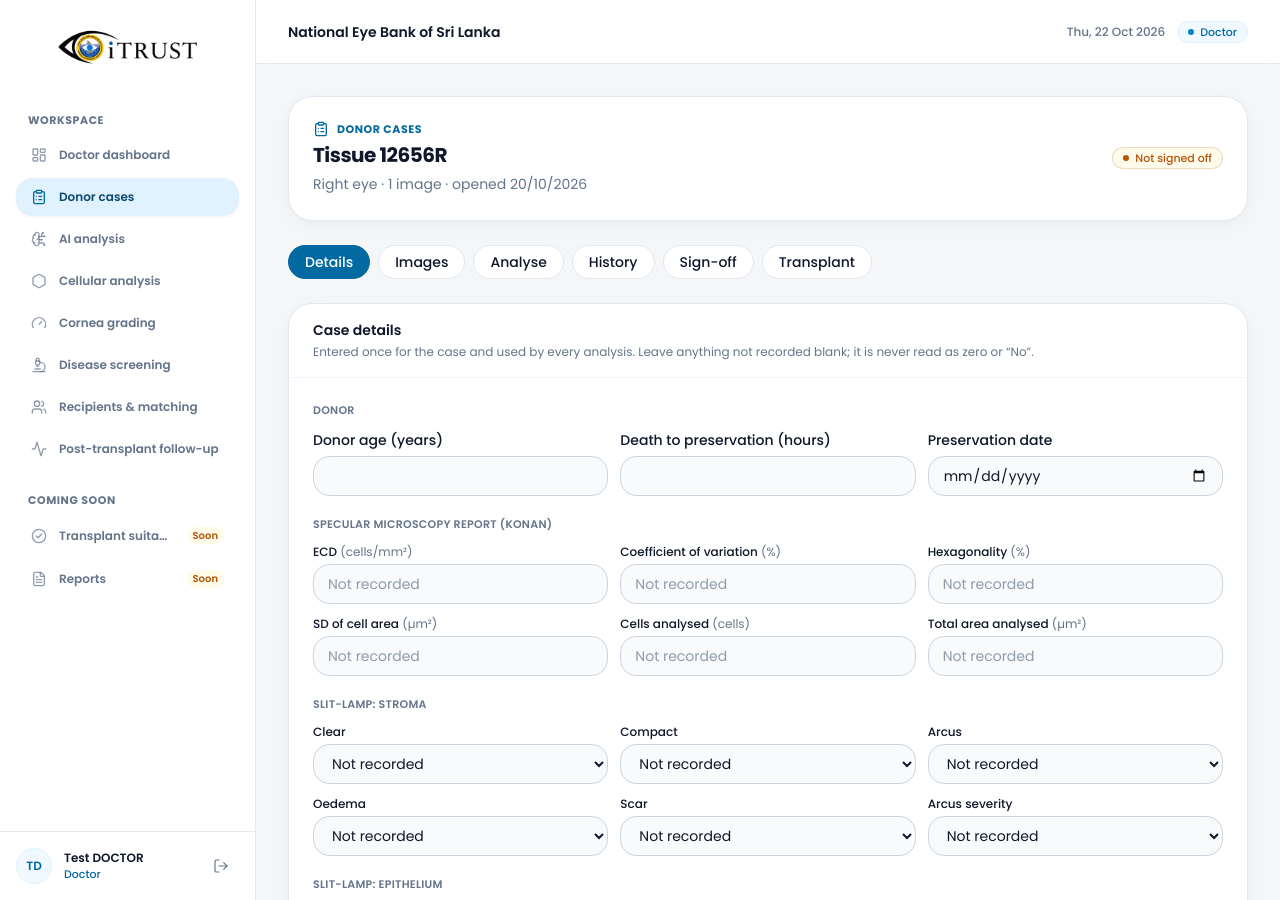
Scenario: Case workspace › saves the details once for every module
Step 1. Type "54" into the field labelled "Donor age (years)" → (461, 476), box top-left (313, 456), bottom-right (608, 496)
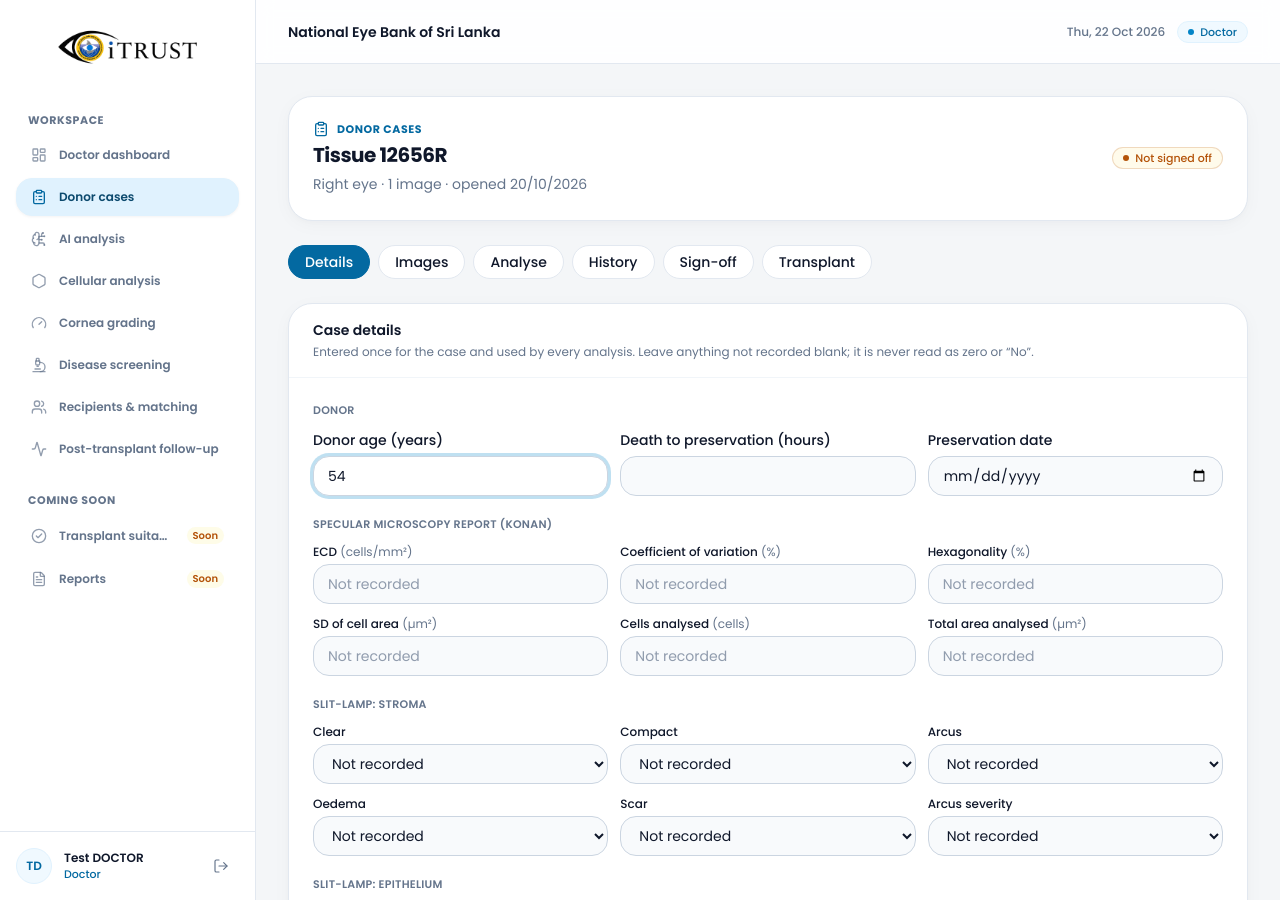
Step 2. Type "2400" into the field labelled "ECD (cells/mm²)" → (461, 584), box top-left (313, 564), bottom-right (608, 604)
(page scrolled)
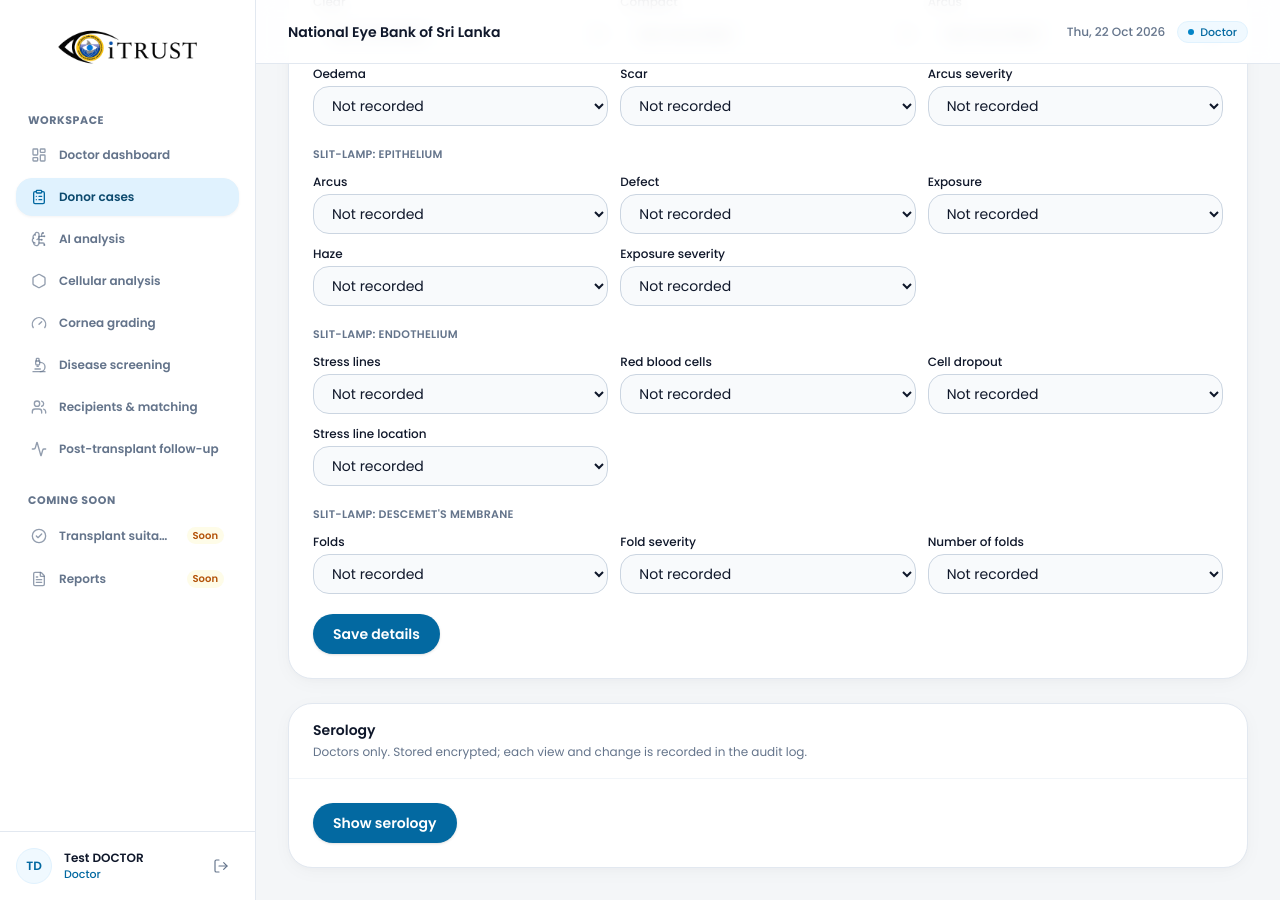
Step 3. Click the button "Save details" → click(376, 634), box top-left (313, 614), bottom-right (440, 654)
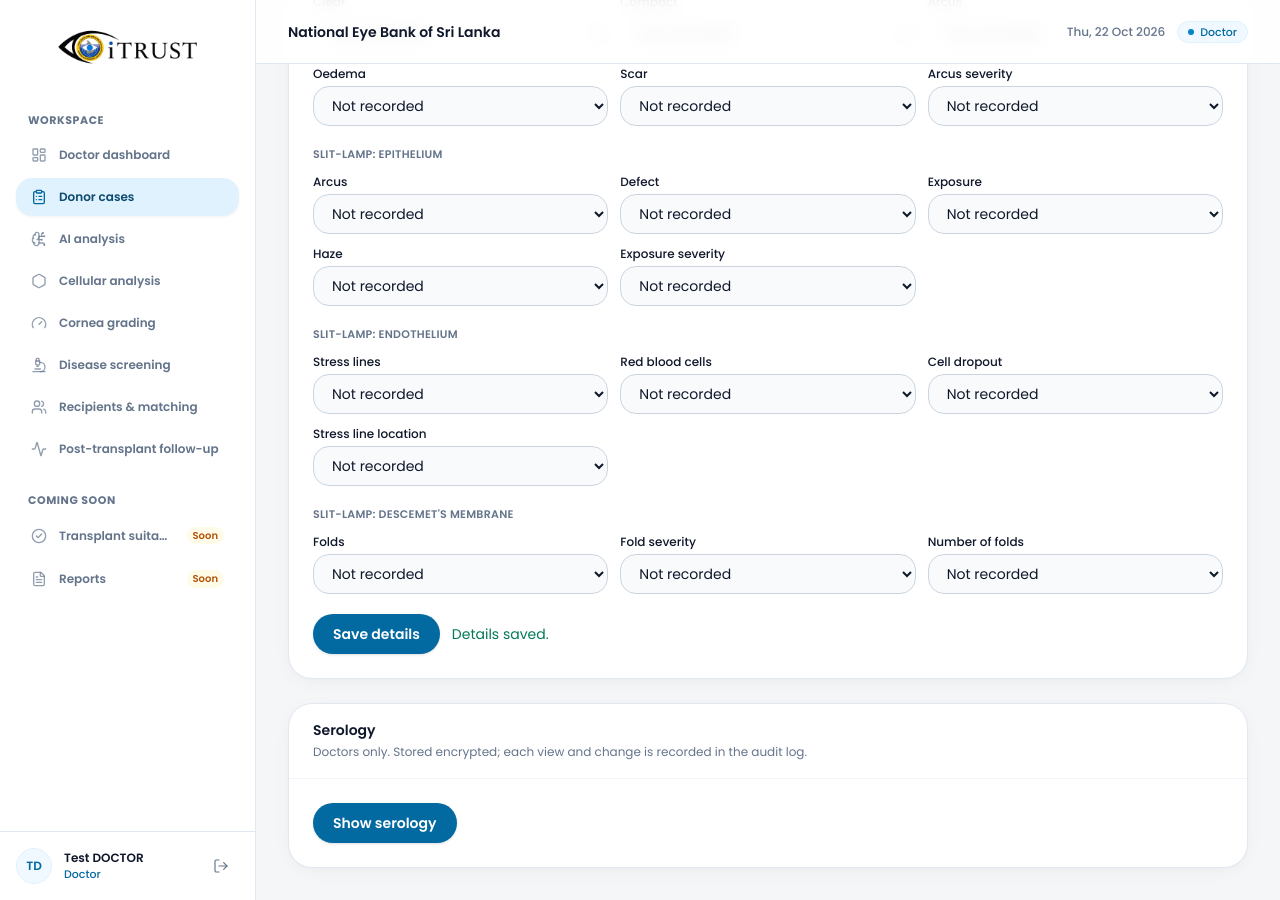
Check: the text "Details saved." is shown, box top-left (452, 624), bottom-right (549, 644)
